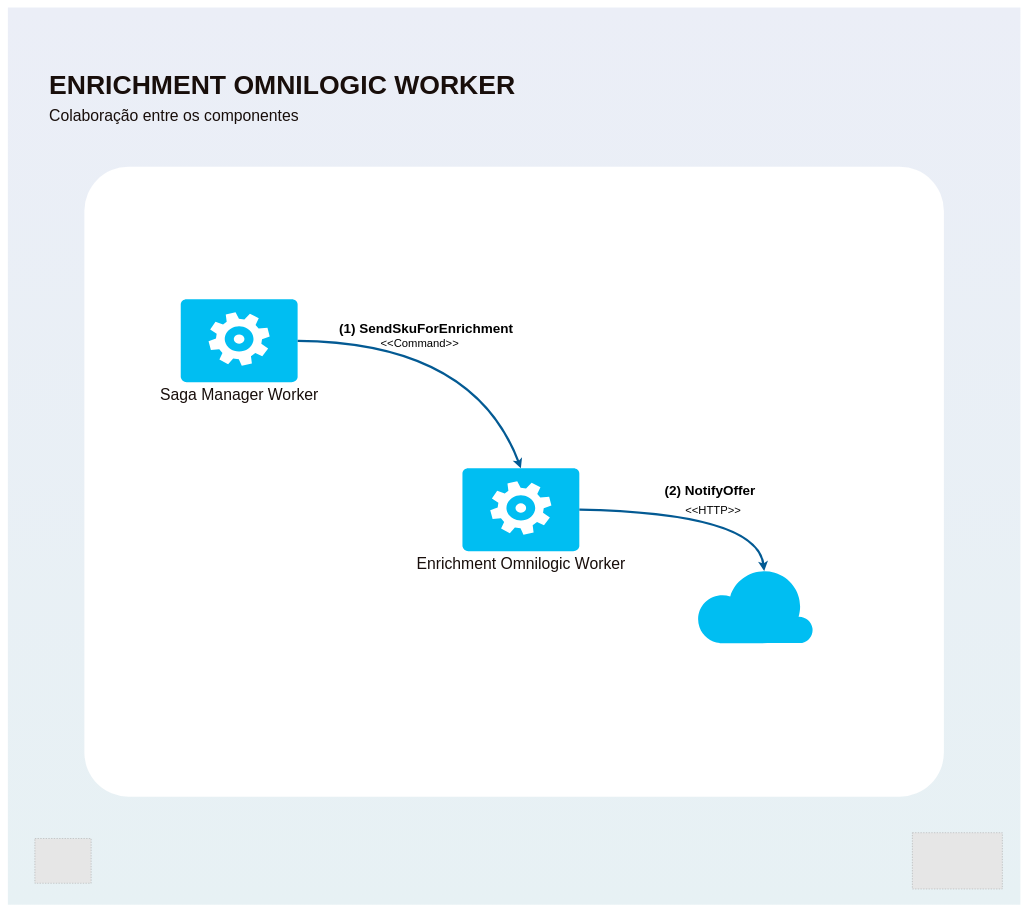
The diagram is 1028 pixels wide and 913 high, and some of its shapes have lost their labels. Grey dashed boxes stand in for pictures. The shapes that lost their labels are listed below. From the top down, each one's box as (x1, y1, x2, y2) in pixels, then its label:
(84, 166, 944, 796): Product
(696, 567, 813, 643): Omnilogic
